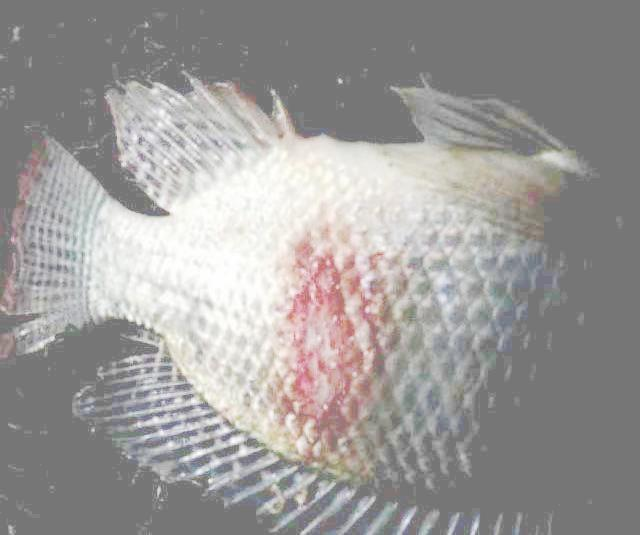Tilapia Lake Virus -TiLV-: (21, 82, 608, 487)
